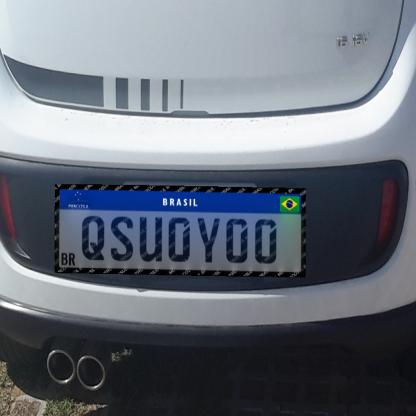PlacaM: (55, 184, 306, 278)
